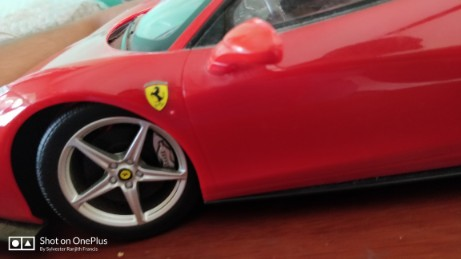unaligned_wheel: (5, 96, 234, 238)
